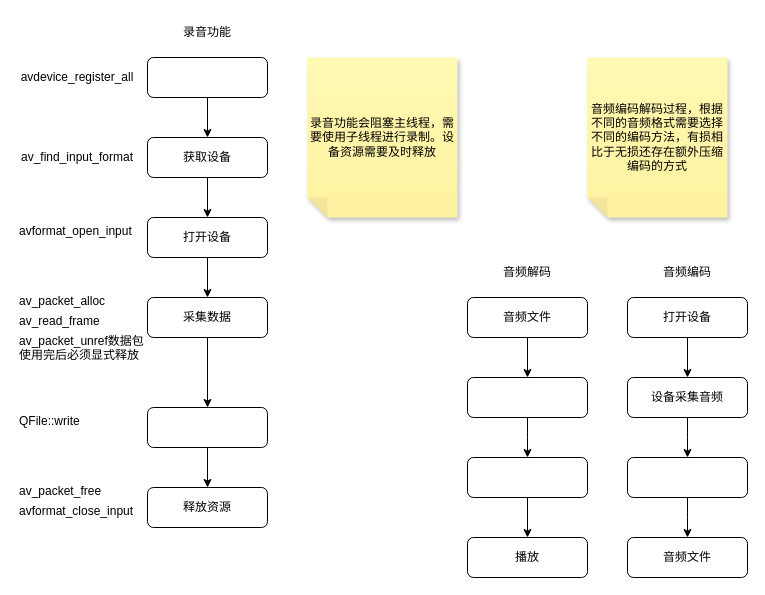
Image size: 765x595. Some labels were removed from this diagram. Here are the shapes that lost their labels. From the top down, the centre of each, then its label:
the point at 207,77: 注册设备
the point at 527,397: 播放设备
the point at 207,427: 保存数据
the point at 527,477: 解码
the point at 687,477: 编码
